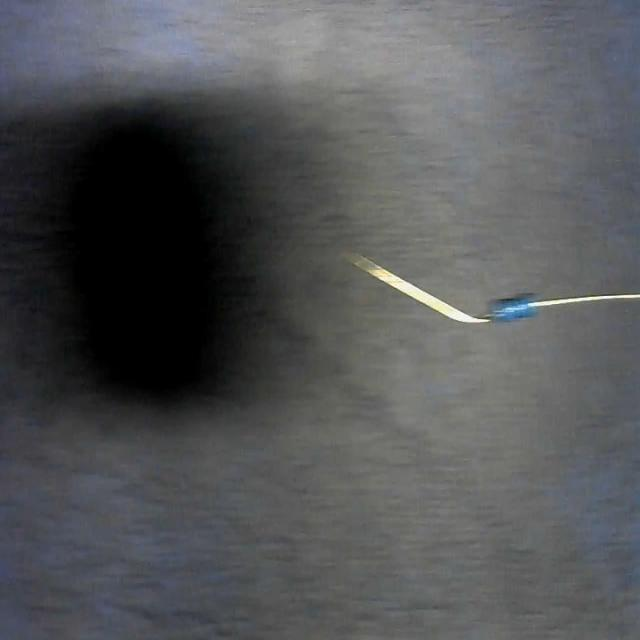resistor: (348, 252, 640, 329)
